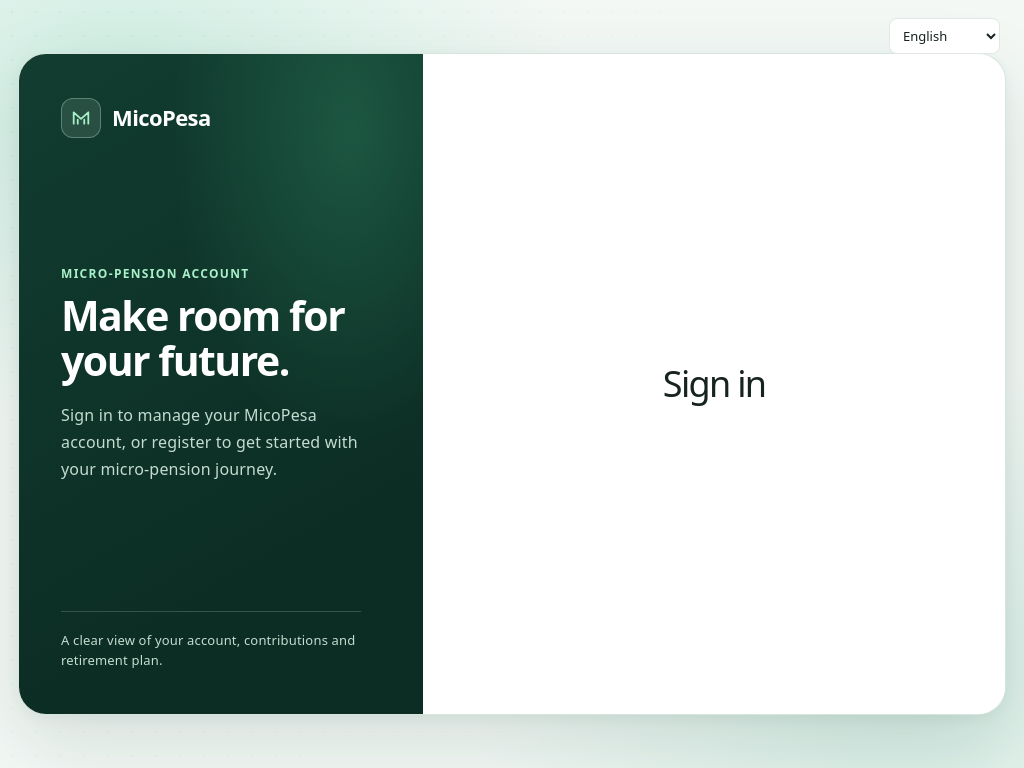
Test: shared localization › switches between Kiswahili and English and updates the document language
Select "Kiswahili" in the dropdown named "Language" at (944, 36), box [889,18,1000,54]
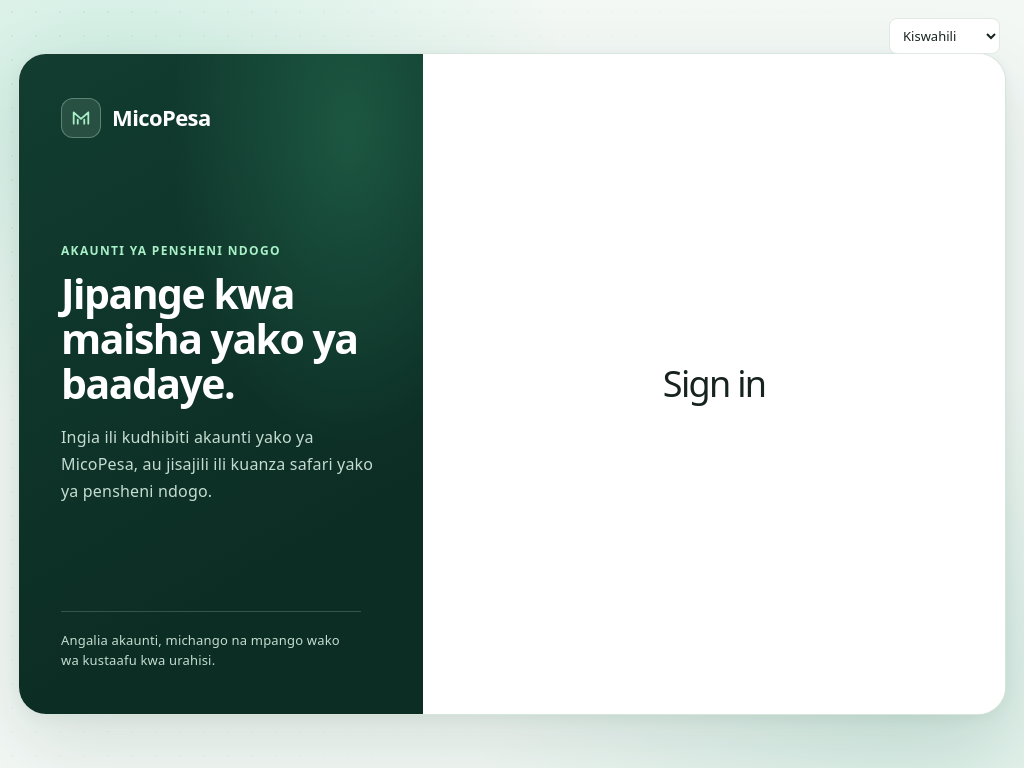
Now the heading "Jipange kwa maisha yako ya baadaye." is shown, box [61,271,381,406]
Select "English" in the dropdown named "Lugha" at (944, 36), box [889,18,1000,54]
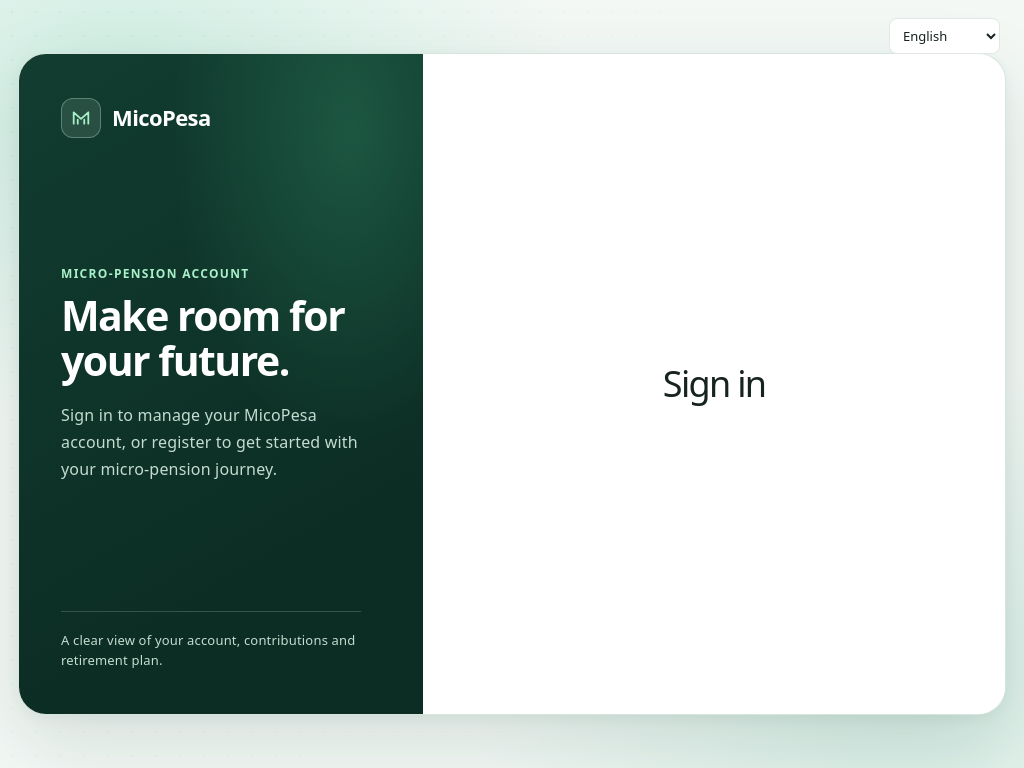
Now the heading "Make room for your future." is shown, box [61,293,381,384]
